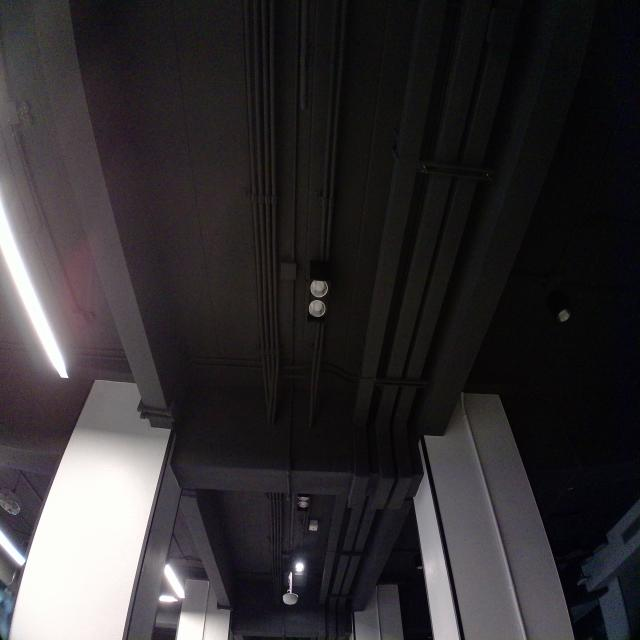lamp1_off: (301, 268, 336, 329)
